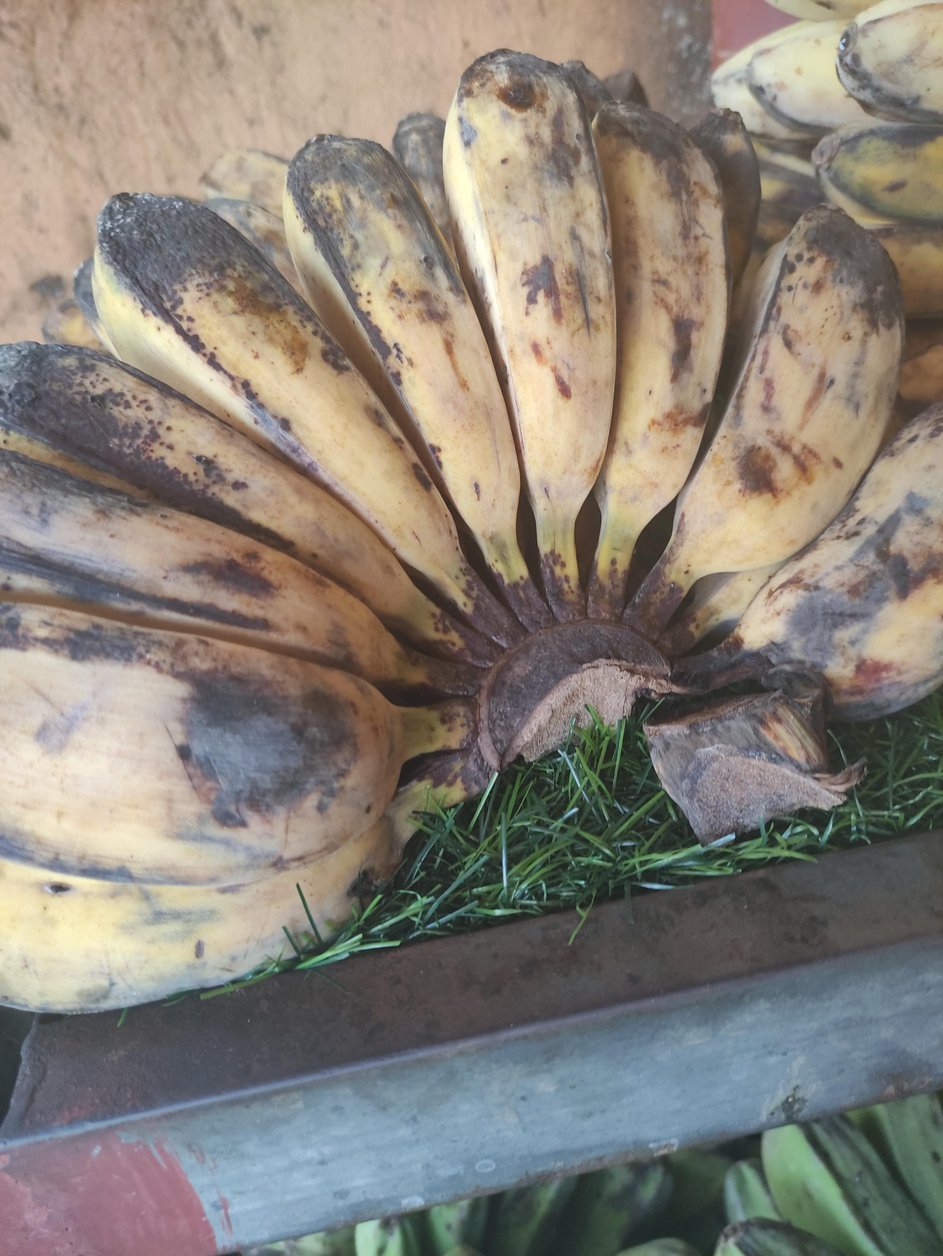ripe: (0, 53, 943, 1017), (711, 0, 943, 140)
underripe: (234, 1139, 759, 1256), (812, 123, 943, 410), (715, 1098, 943, 1256)
